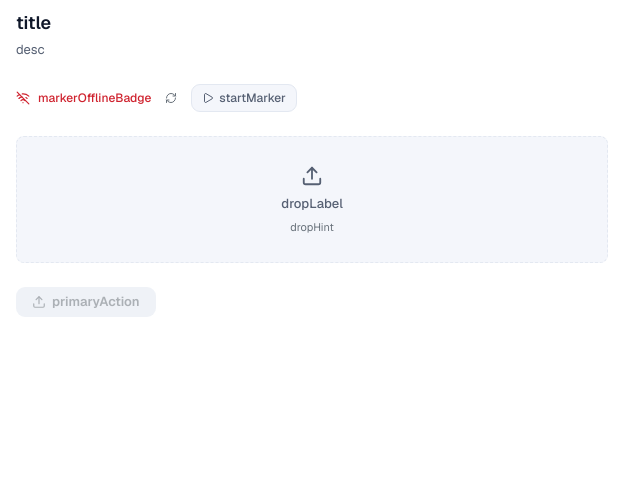
Scenario: ConvertPanel — R12-6: cancel hides the config field › clicking cancel on the config field hides it without spawning
This screenshot has width=625, height=496.
Expected: the text "markerOfflineBadge" is shown, [38,90,151,106]
Click the button with test id "start-marker-btn" at (244,98), box [191,84,297,112]
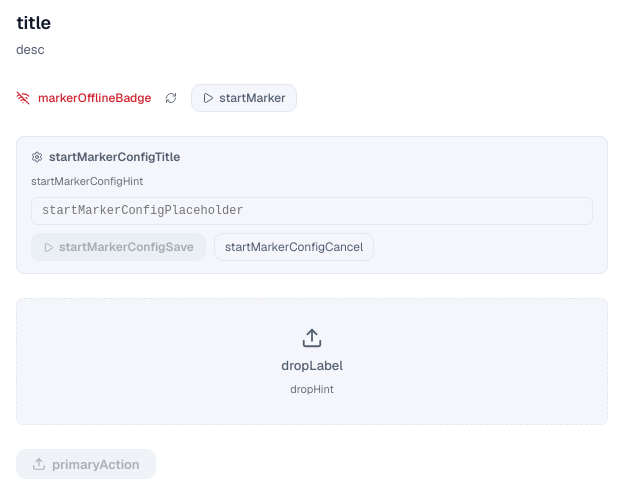
Now the element with test id "start-marker-cmd-field" is shown, box [16,136,608,274]
Click the button with test id "start-marker-cmd-cancel" at (294,247), box [214,233,374,261]
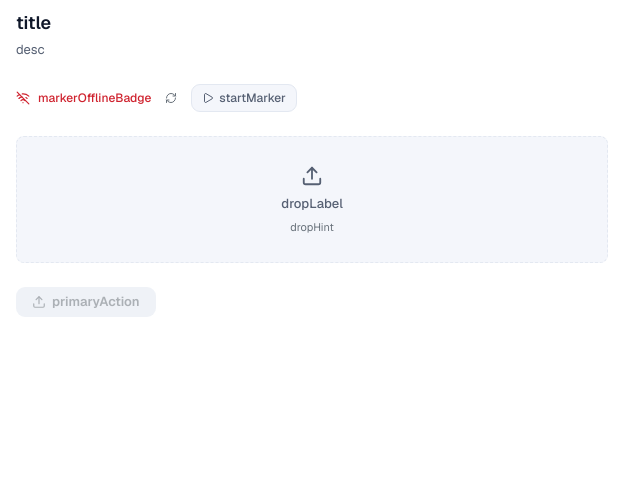
Now the element with test id "start-marker-cmd-field" is gone
